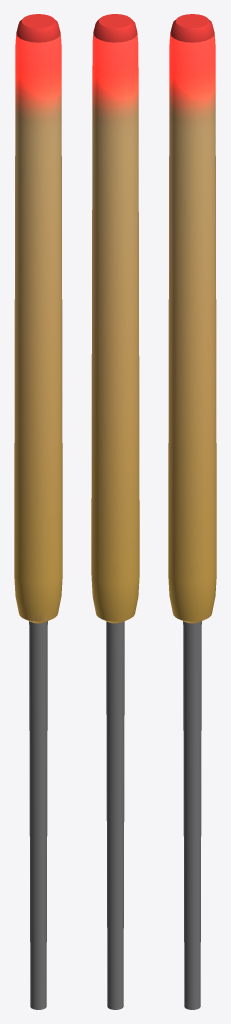
Rendered from candle_bengala_0.glb.
3 views of the same model, side by side, from view 1: azimuth 90°, elevation 25°; view 2: azimuth 210°, elevation 25°; view 3: azimuth 270°, elevation 25° (orthographic).
Parts seen in each view (by area): view 1: bengala_cream.025; view 2: bengala_cream.025; view 3: bengala_cream.025.
Part boxes in pixels (left/top/right/bottom): bengala_cream.025: left=14, top=14, right=62, bottom=1009; bengala_cream.025: left=91, top=14, right=139, bottom=1009; bengala_cream.025: left=168, top=14, right=216, bottom=1009.
Bounding box in the file's own units: 0.0463 × 1.03 × 0.0463.
Materials: 1 (1 with a texture image).
